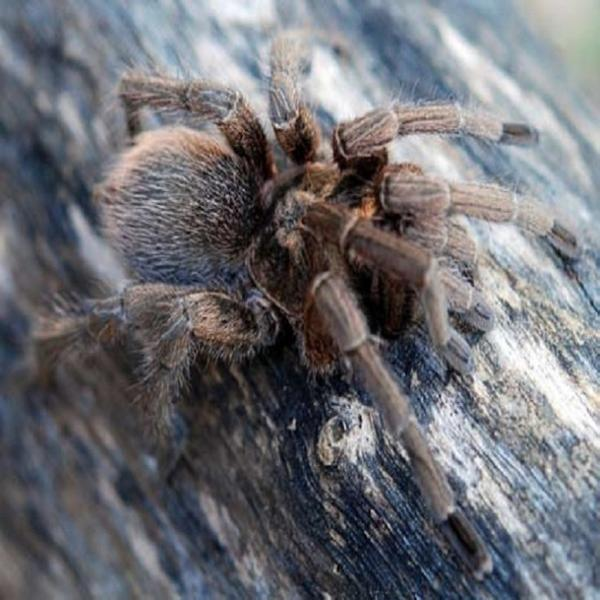Tarantula Spider: (41, 41, 562, 563)
